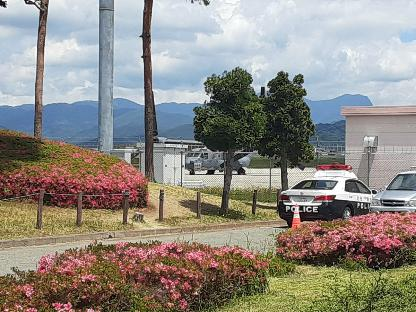Tornado: (131, 86, 306, 174)
